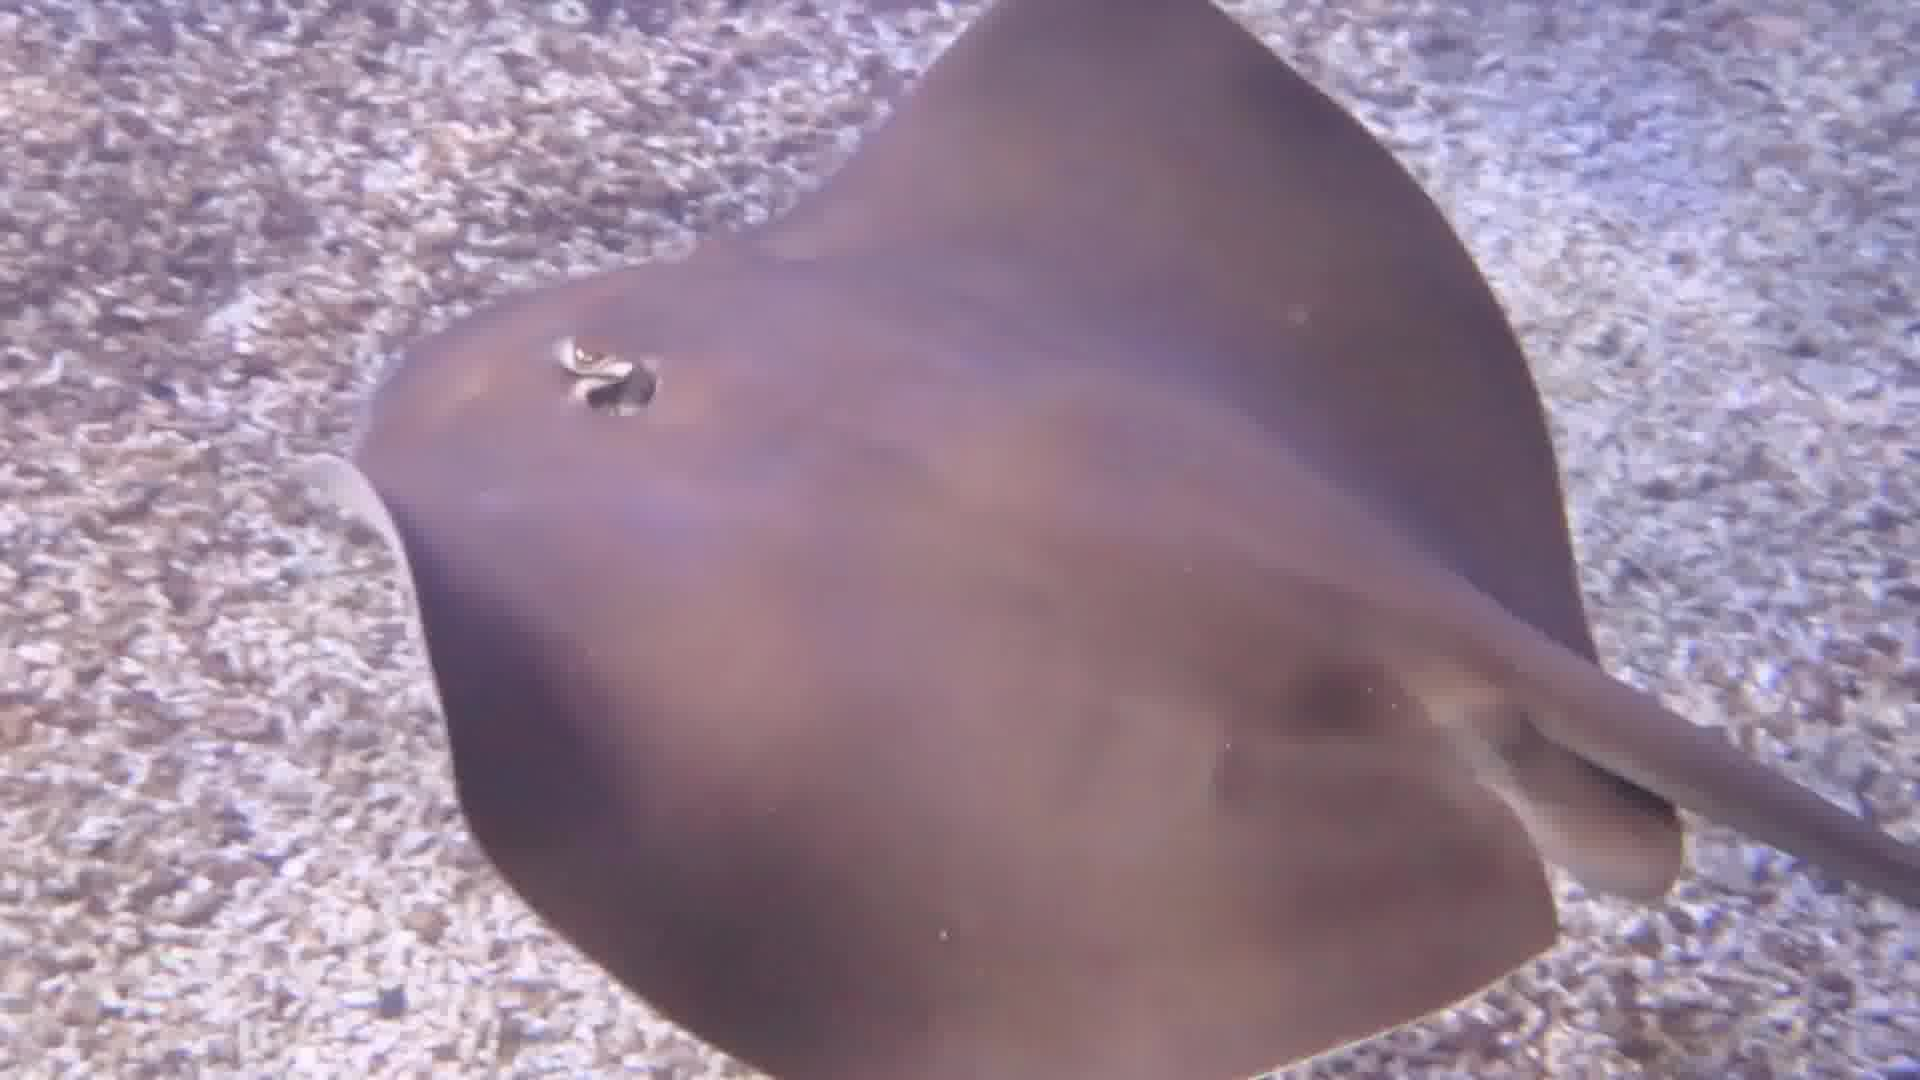Dasyatis akajei: (291, 1, 1920, 1075)
